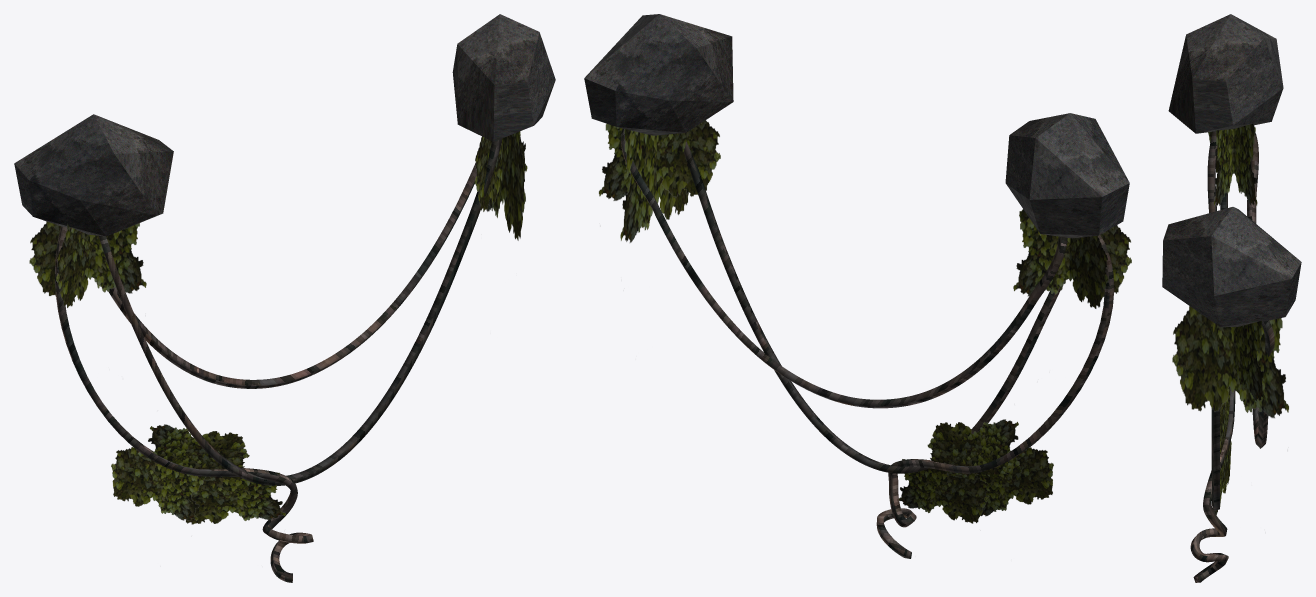
Rendered from vines_2.glb.
3 views of the same model, side by side, from view 1: azimuth 30°, elevation 25°; view 2: azimuth 150°, elevation 25°; view 3: azimuth 270°, elevation 25° (orthographic). The views are drawn at different scales.
Parts seen in each view (by area): view 1: cable.001, vines_2, Plane.002, Cube.001, Plane, Plane.001; view 2: cable.001, Cube.001, vines_2, Plane.002, Plane.001, Plane; view 3: Cube.001, vines_2, Plane.001, cable.001, Plane, Plane.002.
Part boxes in pixels (<box>): cable.001: <box>55,138,502,582</box>; vines_2: <box>14,114,173,236</box>; Plane.002: <box>111,424,285,524</box>; Cube.001: <box>452,14,555,141</box>; Plane: <box>29,221,146,307</box>; Plane.001: <box>474,131,527,240</box>; cable.001: <box>621,128,1114,558</box>; Cube.001: <box>584,14,733,135</box>; vines_2: <box>1005,113,1129,238</box>; Plane.002: <box>899,419,1053,523</box>; Plane.001: <box>598,120,720,242</box>; Plane: <box>1013,209,1131,308</box>; Cube.001: <box>1162,207,1301,327</box>; vines_2: <box>1168,14,1283,133</box>; Plane.001: <box>1172,306,1288,418</box>; cable.001: <box>1190,131,1274,582</box>; Plane: <box>1208,123,1257,206</box>; Plane.002: <box>1212,386,1231,514</box>.
Bounding box in the file's own units: 10.08 × 9.28 × 2.42.
Materials: 3 (3 with a texture image).
